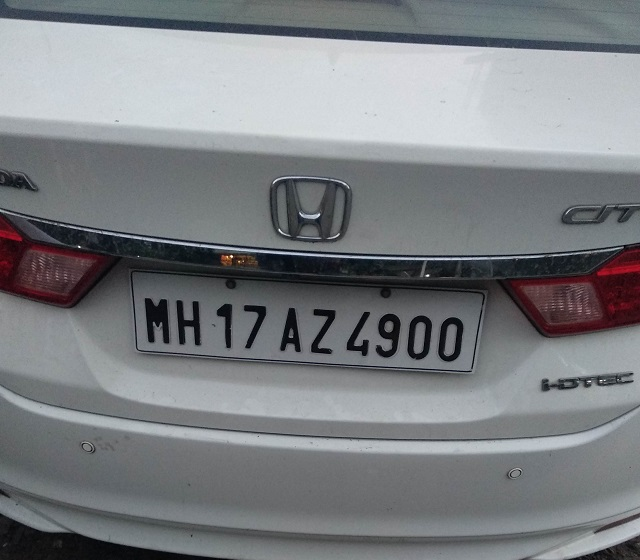licenseplate: (120, 264, 487, 386)
